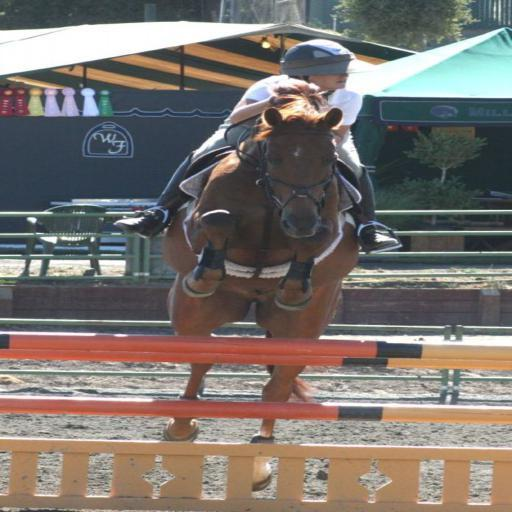horse: (166, 78, 364, 492)
